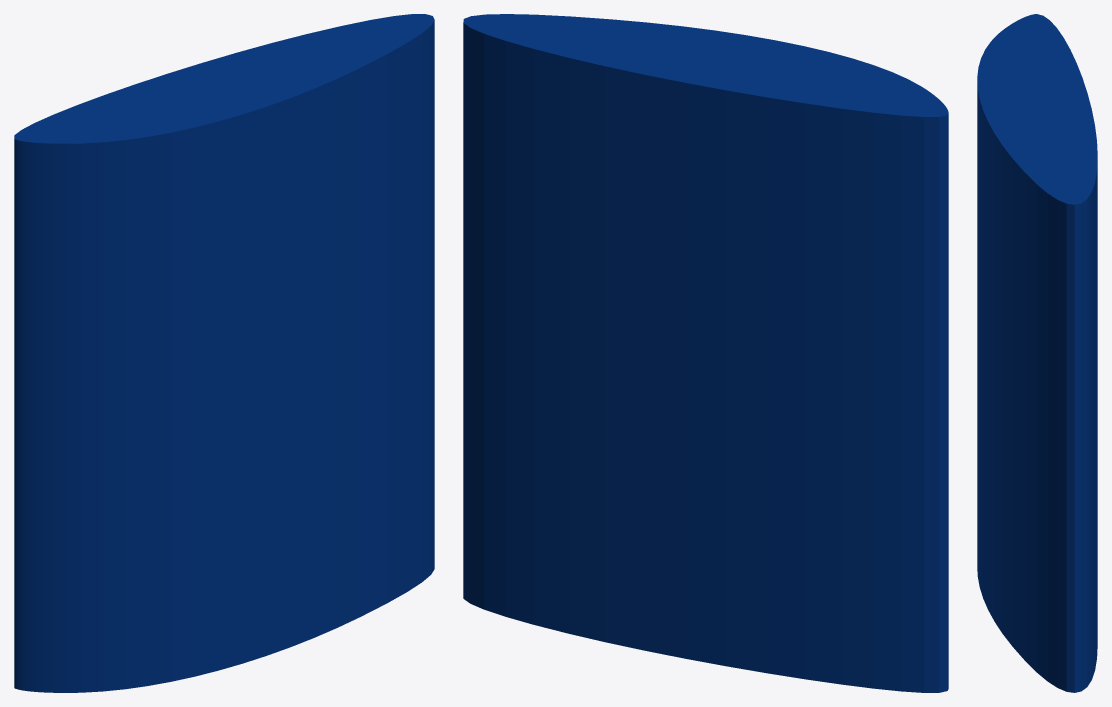
Rendered from Europe_02.obj.
3 renders of one model, left to right at view 1: azimuth 30°, elevation 25°; view 2: azimuth 150°, elevation 25°; view 3: azimuth 270°, elevation 25°, orthographic. The views are drawn at different scales.
Visible parts, largest first — view 1: Europe_02_path4234; view 2: Europe_02_path4234; view 3: Europe_02_path4234.
Boxes of the visible parts, x1,y1,x2,y2 form: Europe_02_path4234: (14,14,434,692); Europe_02_path4234: (463,14,948,692); Europe_02_path4234: (977,14,1097,692).
Size of the model in its own units: 0.0838 by 0.1 by 0.0224.
